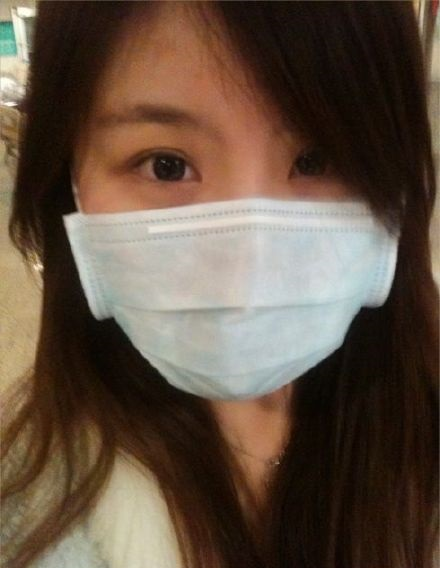face_mask: (78, 1, 384, 400)
